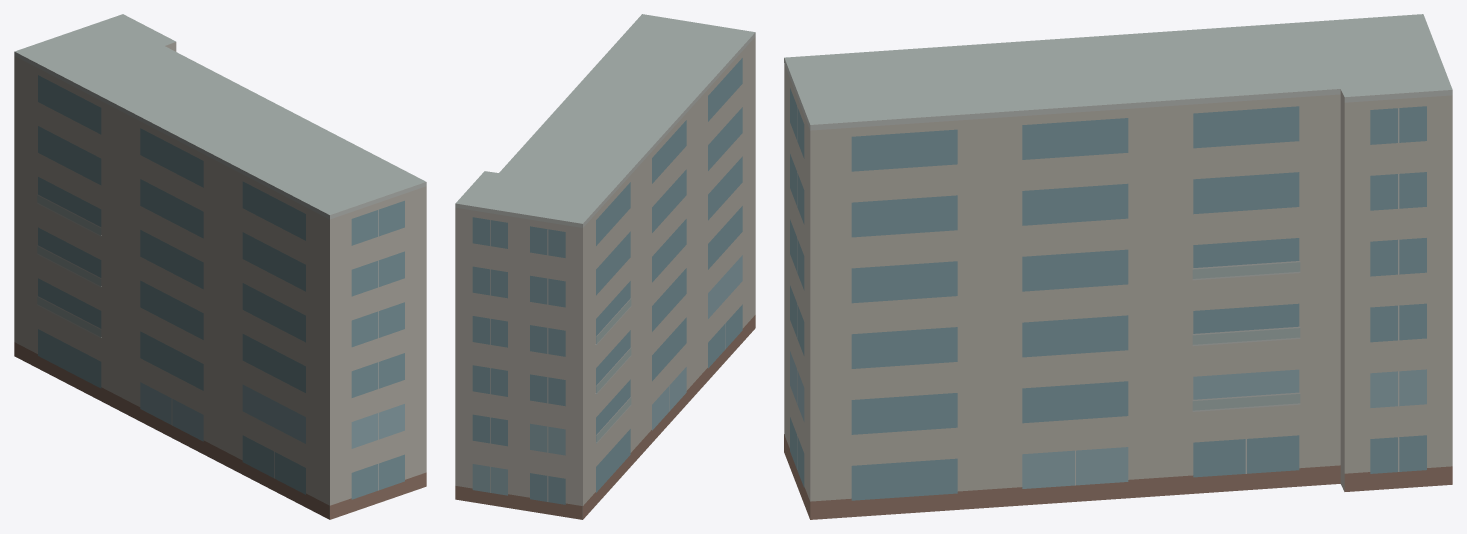
Rendered from survey-upis-32579751.glb.
3 views of the same model, side by side, from view 1: azimuth 30°, elevation 25°; view 2: azimuth 150°, elevation 25°; view 3: azimuth 270°, elevation 25° (orthographic). The views are drawn at different scales.
Parts seen in each view (by area): view 1: survey-upis-32579751.tmp; view 2: survey-upis-32579751.tmp; view 3: survey-upis-32579751.tmp.
Boxes of the visible parts, box(x1,y1,x2,y2) form: survey-upis-32579751.tmp: box(14, 14, 426, 519); survey-upis-32579751.tmp: box(455, 14, 755, 519); survey-upis-32579751.tmp: box(784, 14, 1452, 519).
Bounding box in the file's own units: 10.44 × 17.3 × 26.55.
